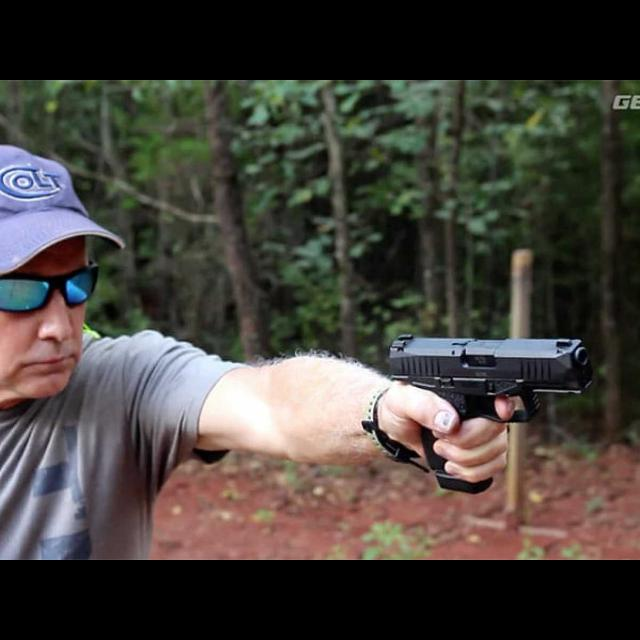handgun: (383, 330, 601, 428)
